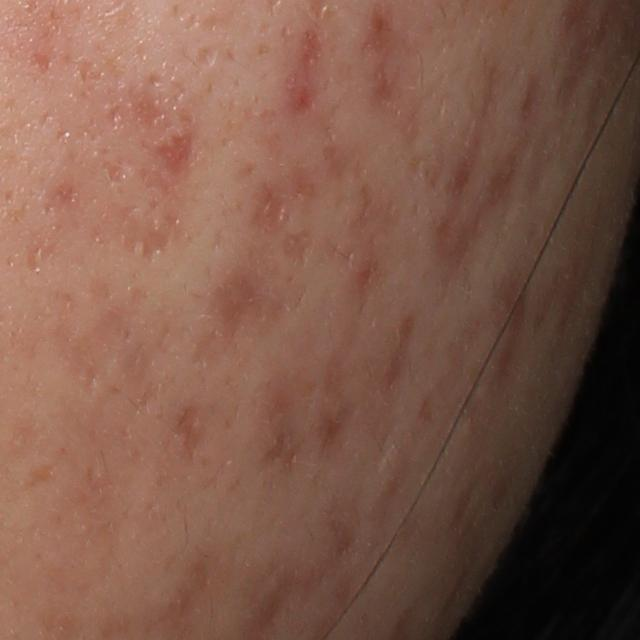atrophic_scar: (49, 290, 163, 414), (172, 399, 205, 462), (139, 215, 178, 265), (39, 178, 88, 213), (280, 229, 316, 270), (99, 160, 134, 185), (196, 43, 220, 72), (30, 49, 56, 75)
papule: (351, 253, 374, 293)
